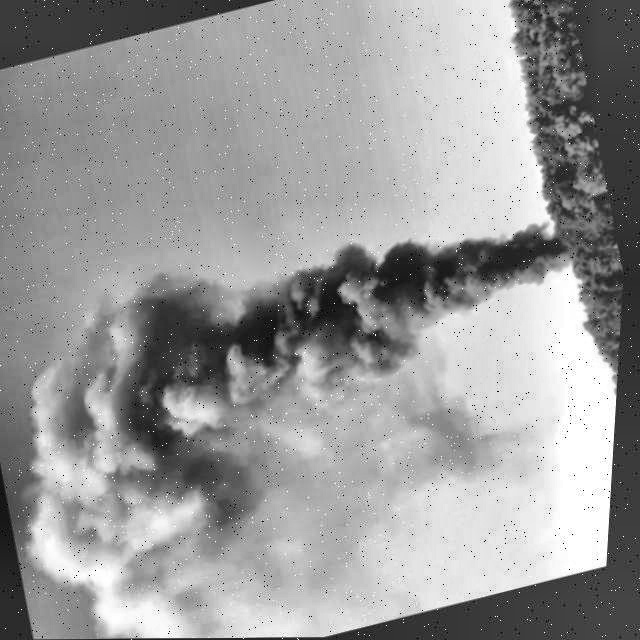Smoke: (0, 182, 618, 583)
